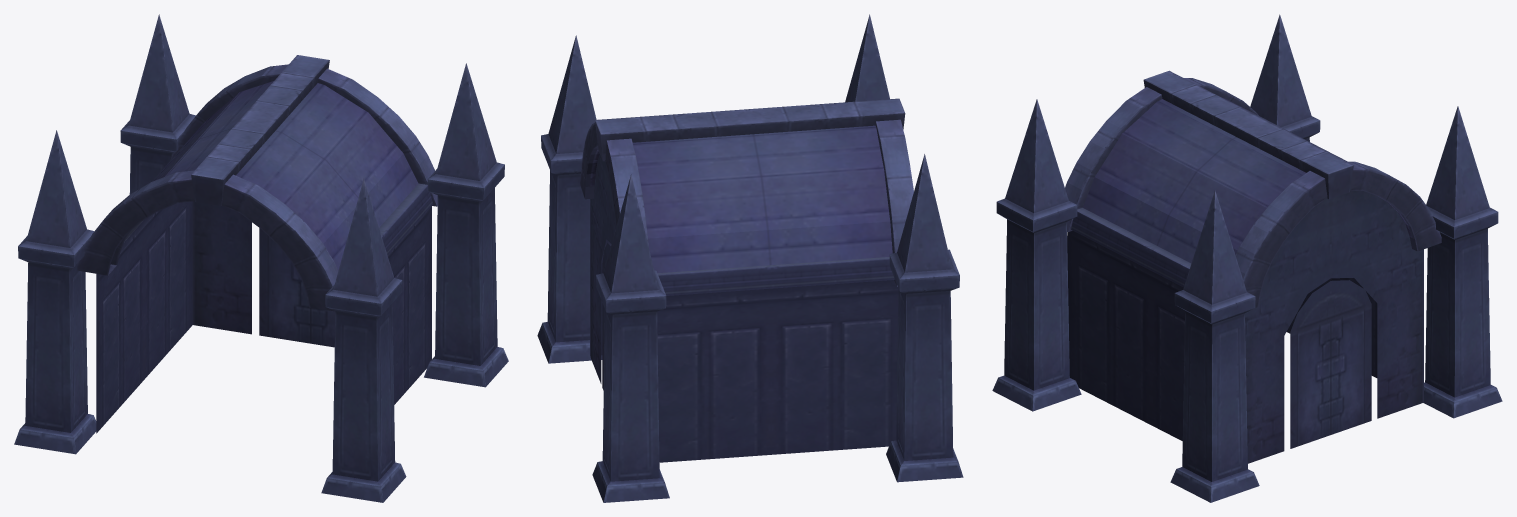
File: Area06_10.fbx
3 renders of one model, left to right at view 1: azimuth 30°, elevation 25°; view 2: azimuth 150°, elevation 25°; view 3: azimuth 270°, elevation 25°, orthographic. The views are drawn at different scales.
Parts seen in each view (by area): view 1: Area06_10; view 2: Area06_10; view 3: Area06_10.
Boxes of the visible parts, box(x1,y1,x2,y2) form: Area06_10: box(14, 14, 508, 502); Area06_10: box(537, 14, 963, 502); Area06_10: box(992, 14, 1502, 502).
Size of the model in its own units: 1604 by 1030 by 1619.
